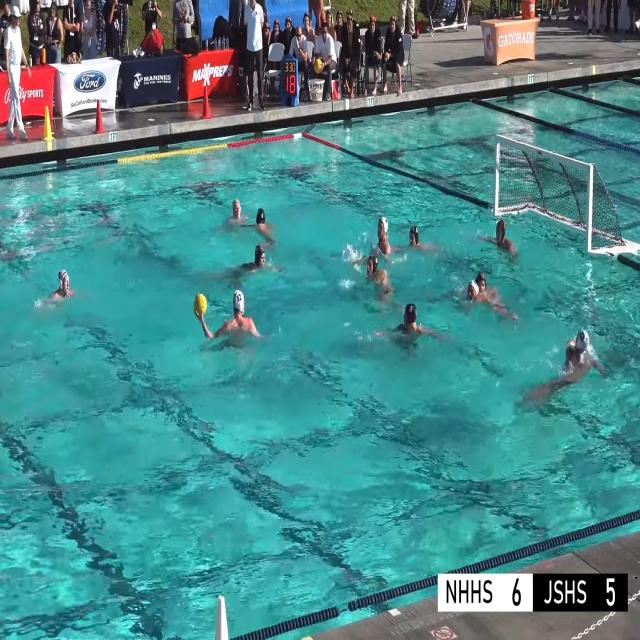ball: (194, 294, 207, 316), (314, 58, 322, 74)
